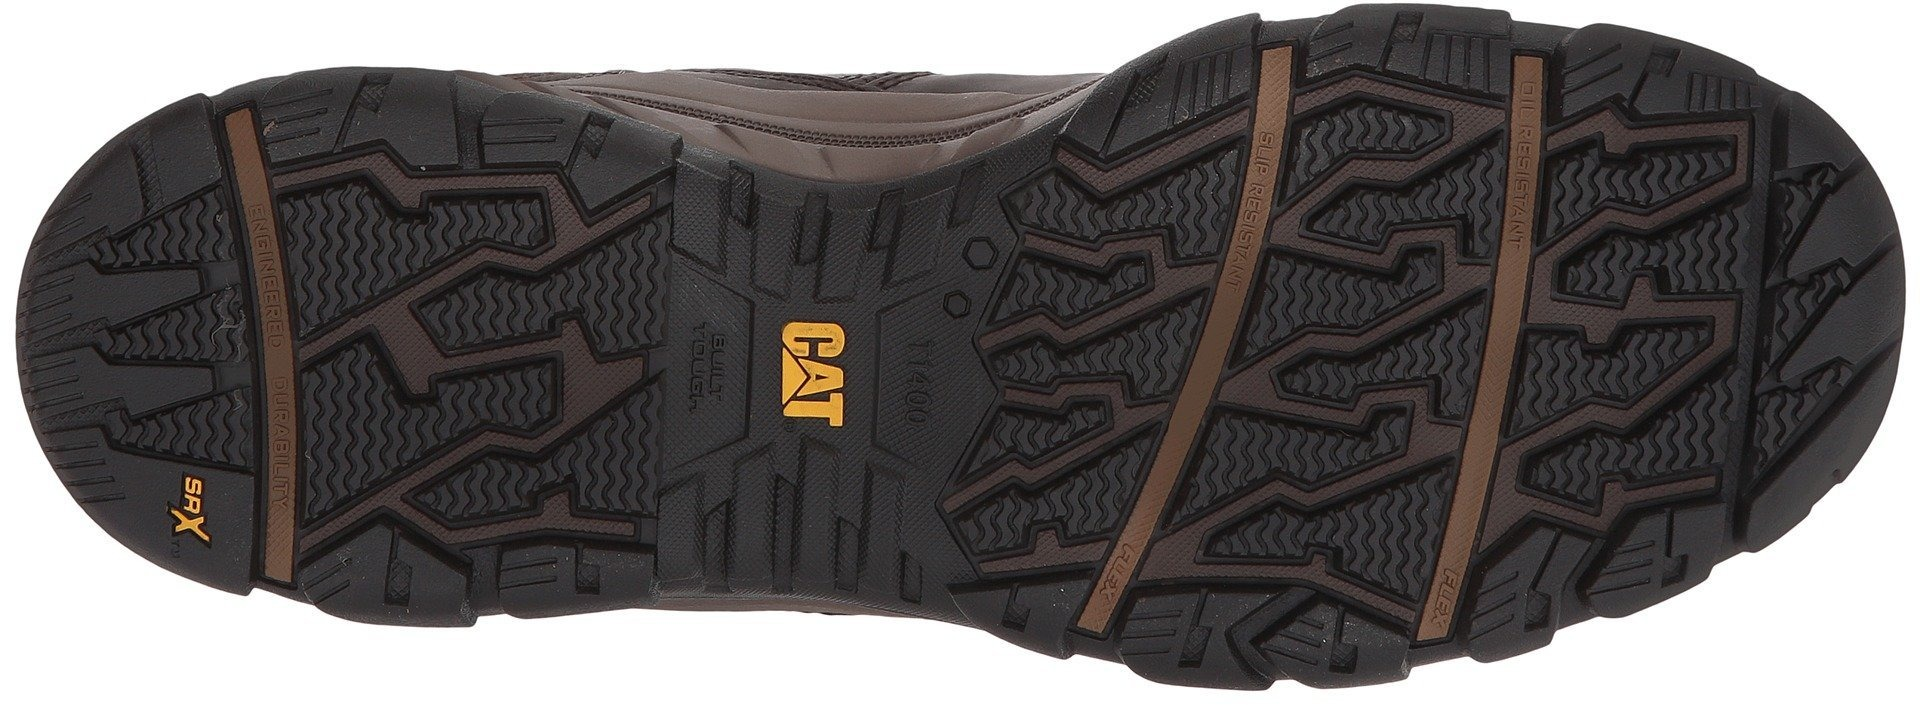exclude: (448, 0, 1109, 211), (642, 580, 992, 703)
other: (285, 176, 669, 545), (940, 383, 1169, 586)
polygon: (956, 230, 1002, 275)
quad: (722, 416, 910, 591)
text: (753, 313, 877, 439), (148, 472, 228, 554)
triangle: (1178, 330, 1479, 600), (1262, 99, 1513, 316), (1509, 293, 1742, 508), (58, 176, 253, 377)
